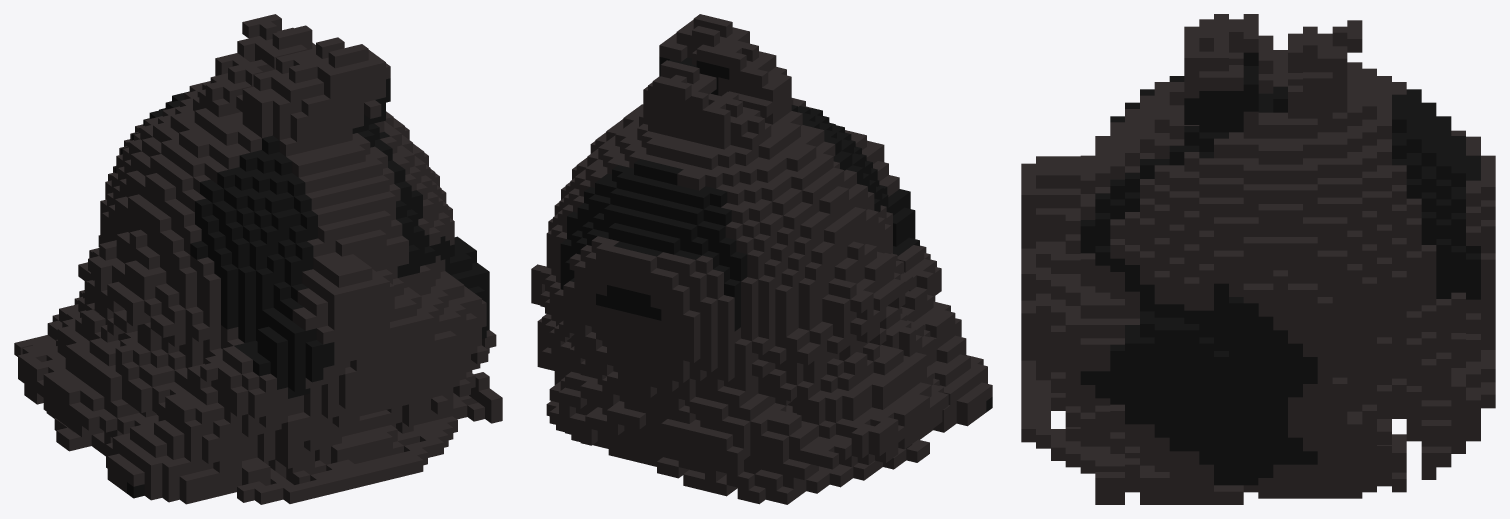
The model's file is GARBAGE2.fbx.
3 renders of one model, left to right at view 1: azimuth 30°, elevation 25°; view 2: azimuth 150°, elevation 25°; view 3: azimuth 270°, elevation 25°, orthographic. The views are drawn at different scales.
Visible parts, largest first — view 1: Layer.052; view 2: Layer.052; view 3: Layer.052.
Part boxes in pixels (x1=…): Layer.052: x1=14, y1=14, x2=502, y2=504; Layer.052: x1=531, y1=14, x2=992, y2=504; Layer.052: x1=1021, y1=14, x2=1495, y2=504.
Size of the model in its own units: 3200 by 3100 by 3200.
